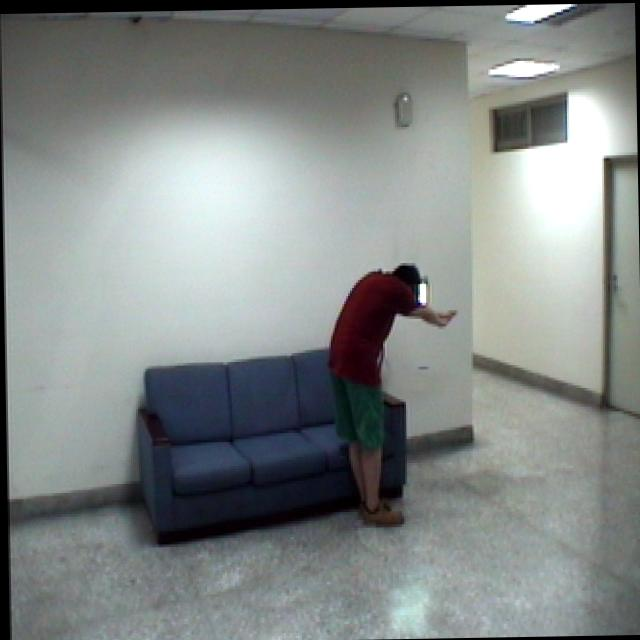bend: (319, 259, 466, 526)
